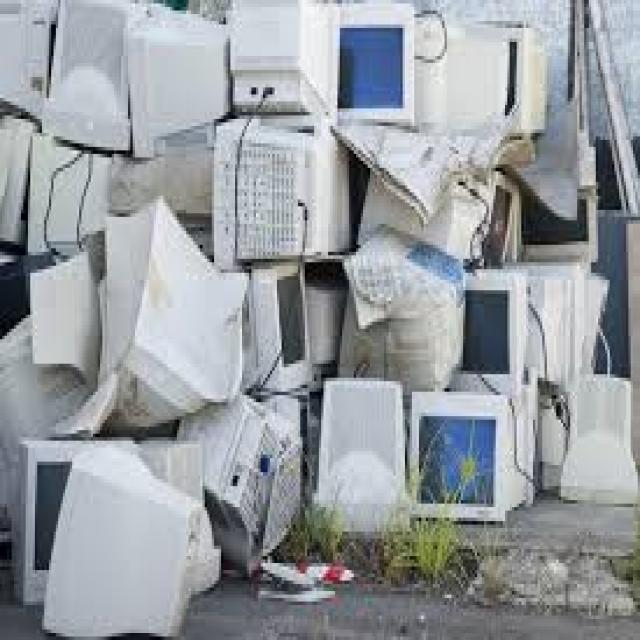hazard: (0, 14, 637, 621)
